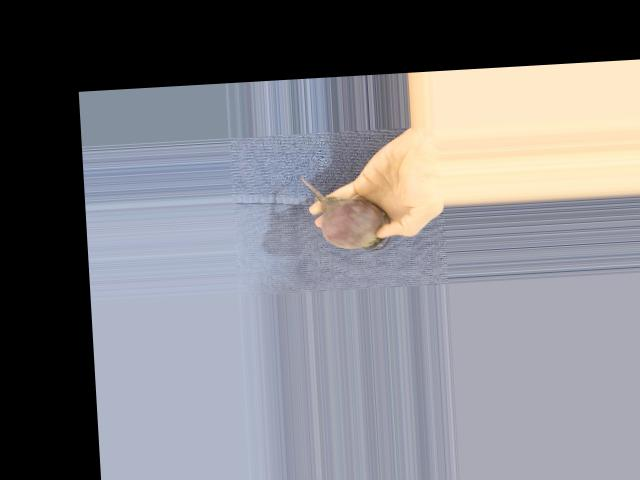beet: (300, 171, 391, 254)
